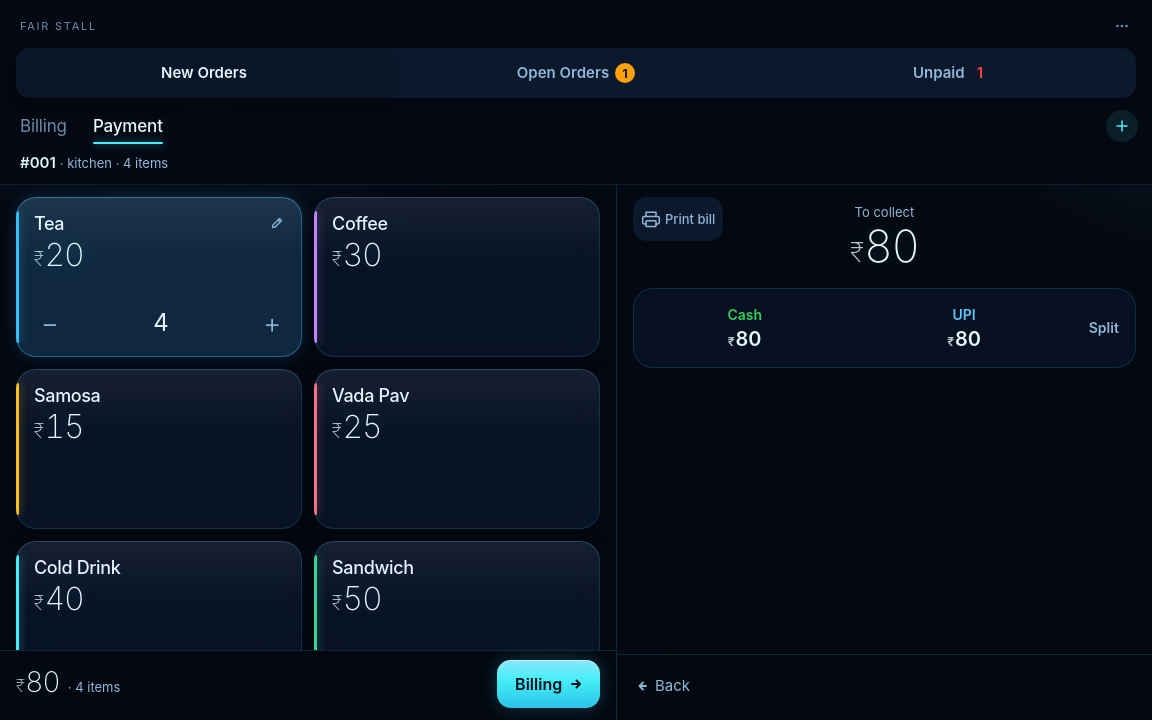
Test: pay3 split lock › the slider rests while a side is locked; locking one unlocks the other; the other is freely changeable
Click the button "Split" at (1104, 328), box [1076,292,1132,364]
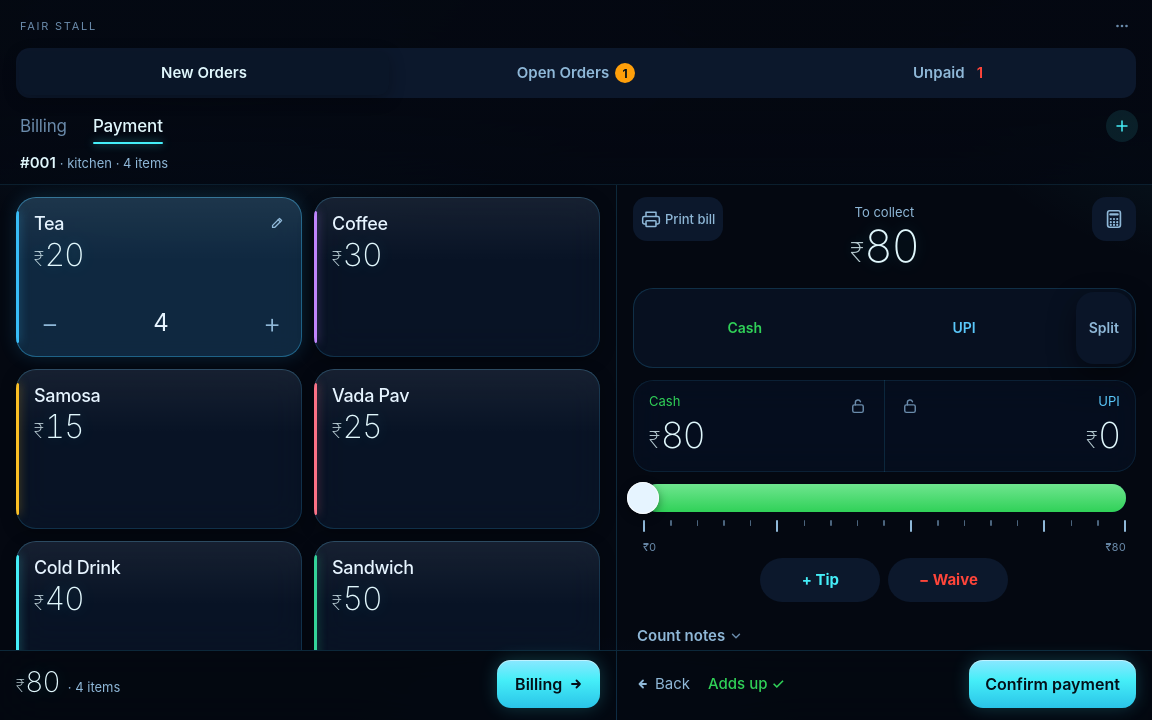
Click the button named "Lock Cash" at (859, 406), box [837,384,881,428]
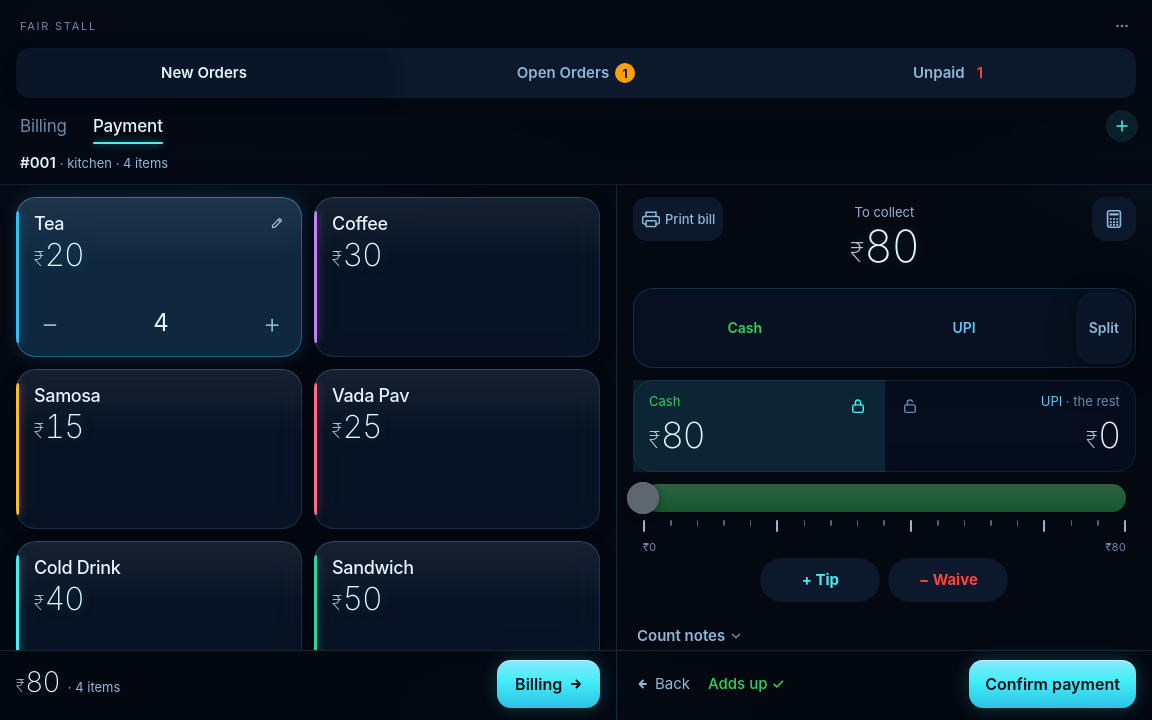
Check: the slider named "Cash and UPI split" is disabled
Press ArrowRight in the slider named "Cash and UPI split", box [643,484,1126,512]
Click the button with aria-label "UPI ₹" at (1010, 425), box [901,390,1120,460]
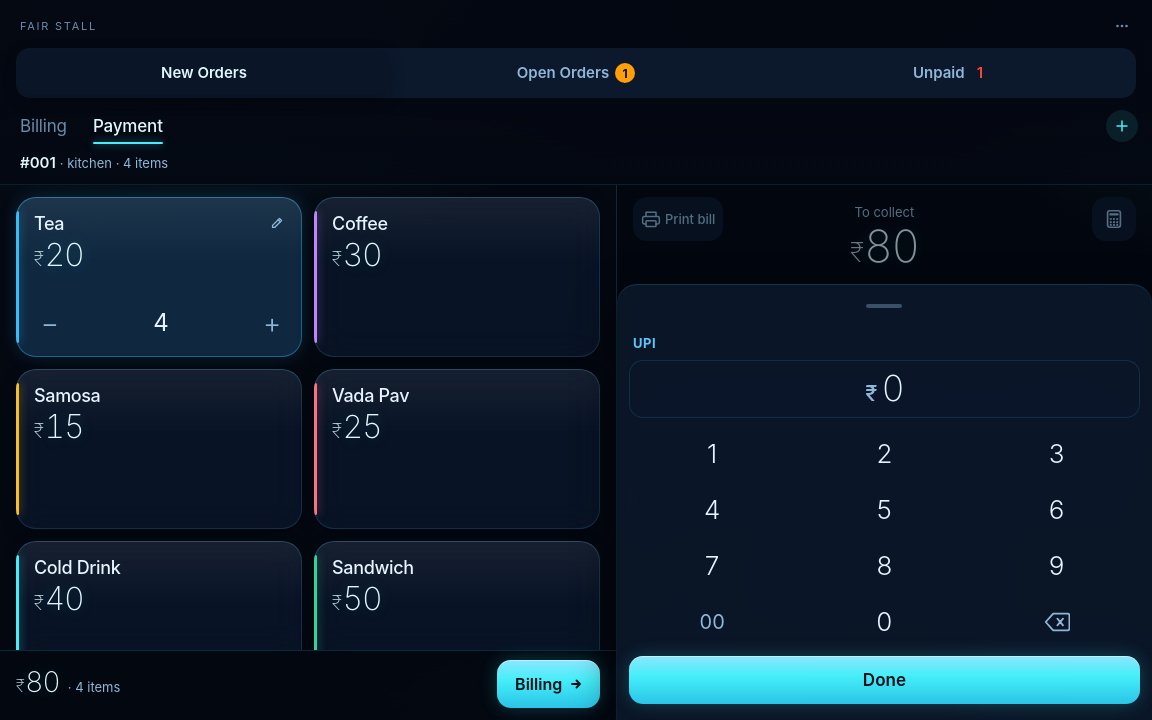
Check: the text "UPI" is shown, box [633,332,656,354]
Check: the element named "UPI amount" is shown, box [629,360,1140,418]
Click the button "Done" at (885, 680), box [629,656,1140,704]
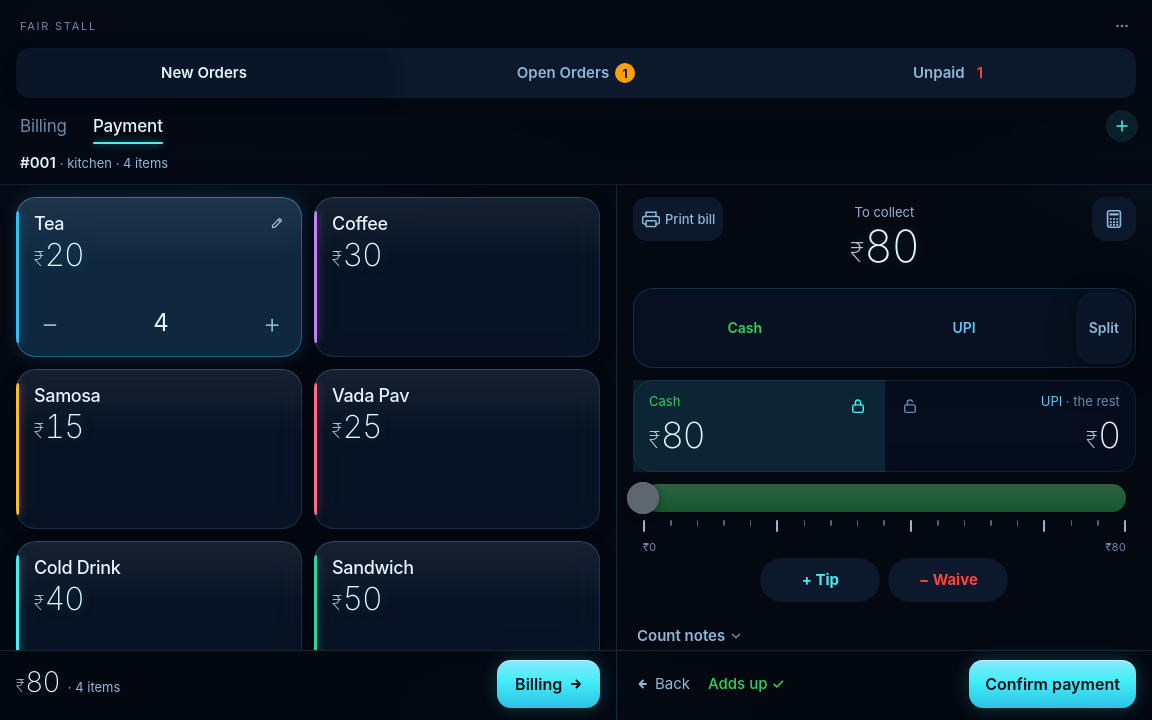
Click the button named "Lock UPI" at (911, 406), box [889,384,933,428]
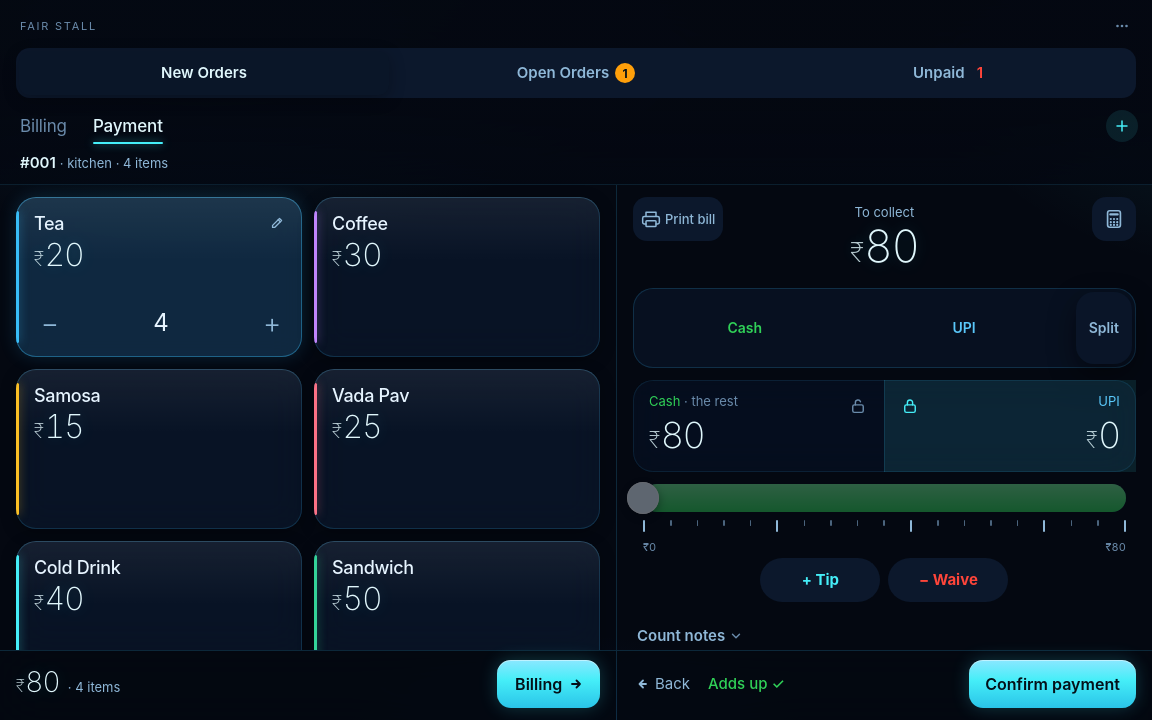
Check: the button named "Lock Cash" is not pressed, box [837,384,881,428]
Click the button named "Unlock UPI" at (911, 406), box [889,384,933,428]
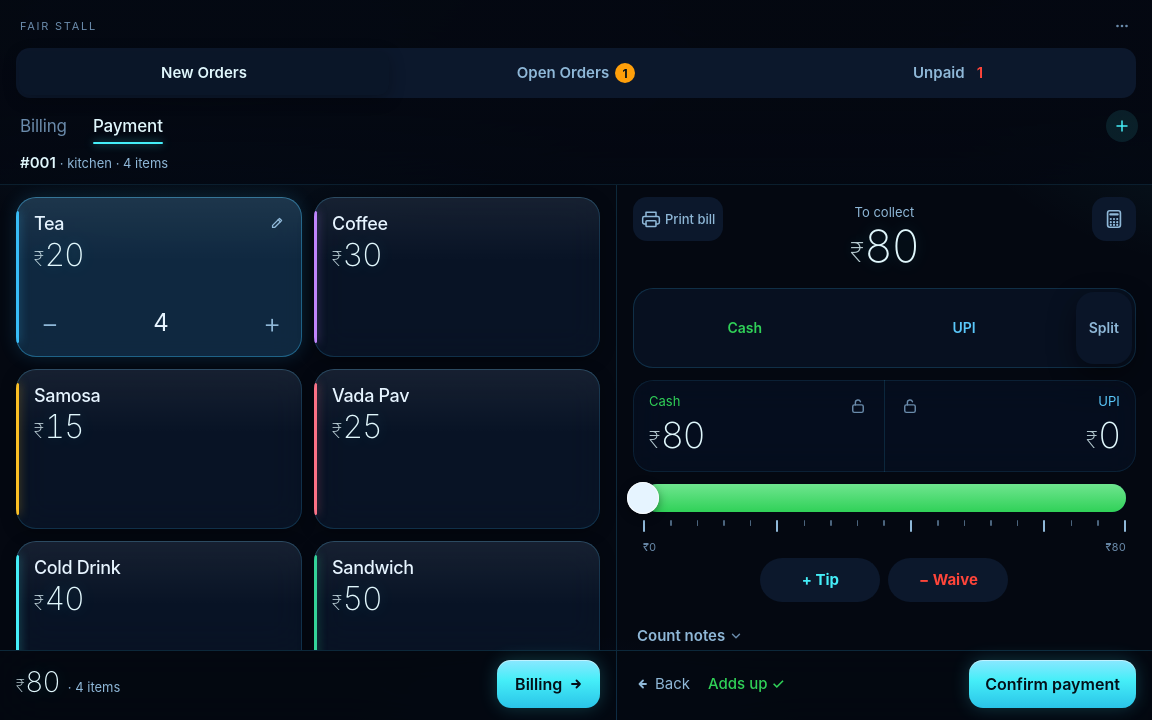
Check: the slider named "Cash and UPI split" does not have attribute aria-disabled, box [643,484,1126,512]
